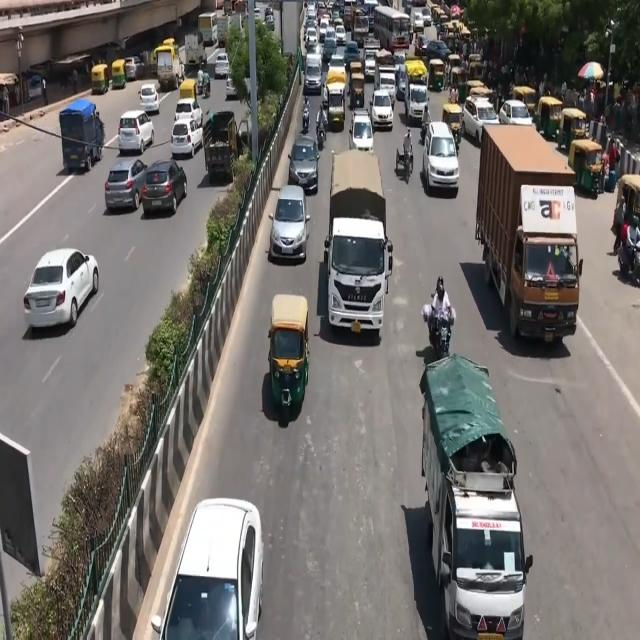Bike: (416, 276, 461, 356)
Truck: (476, 132, 601, 362), (328, 149, 393, 374)
